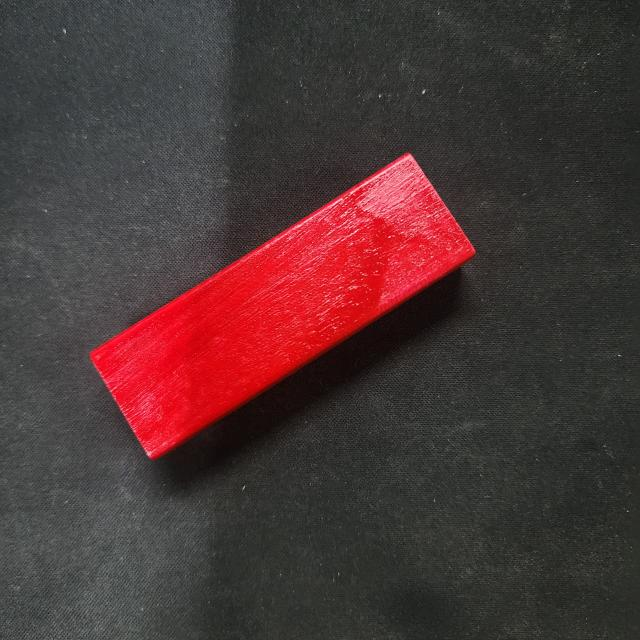red: (84, 147, 477, 462)
